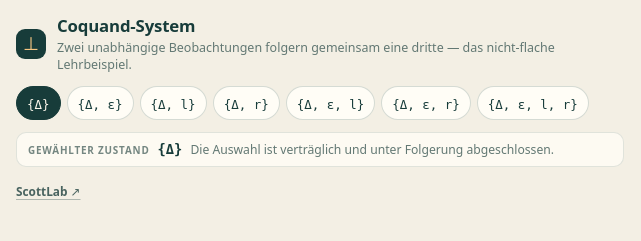
Test: EmbedWidget › shows a requested system in the requested language
Check: the heading "Coquand-System" is shown, box [57,14,195,37]
Step 1. Click the button named "Zustand {Δ, ε, l, r} wählen" → (533, 103), box [477,86,589,120]
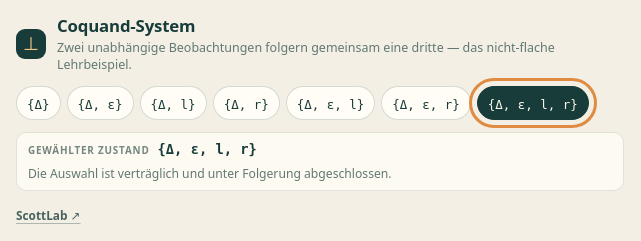
Check: the text "Die Auswahl ist verträglich und unter Folgerung abgeschlossen." is shown, box [28,165,392,182]
Check: the text "{Δ, ε, l, r}" next to "Gewählter Zustand" is shown, box [158,141,257,157]
